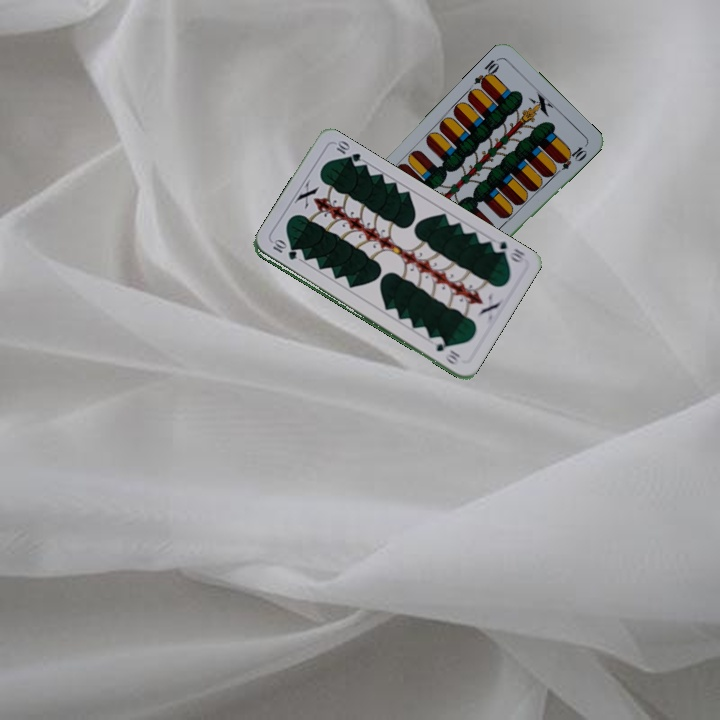E10: (470, 54, 502, 91)
G10: (487, 236, 528, 265), (268, 238, 300, 263)
